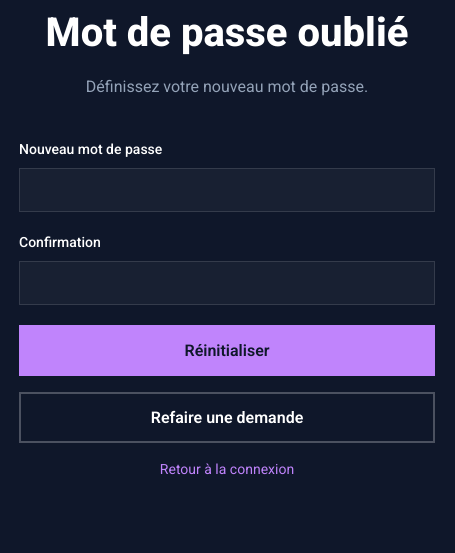
ResetPassword › refuse la confirmation si les mots de passe diffèrent
Type "motdepasse1" into the password field labelled "Nouveau mot de passe". click: (227, 190)
box: [19,168,435,212]
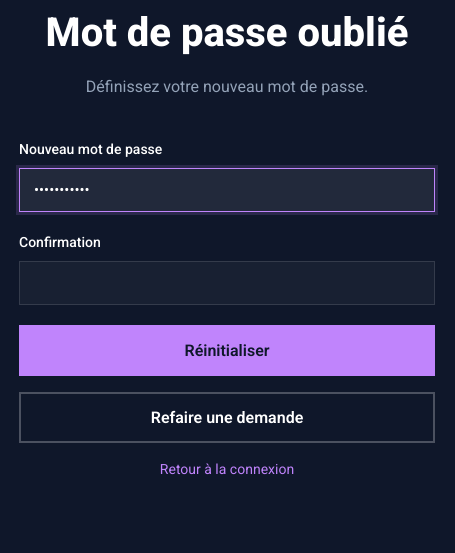
Type "motdepasse2" into the password field labelled "Confirmation". click: (227, 283)
box: [19,261,435,305]
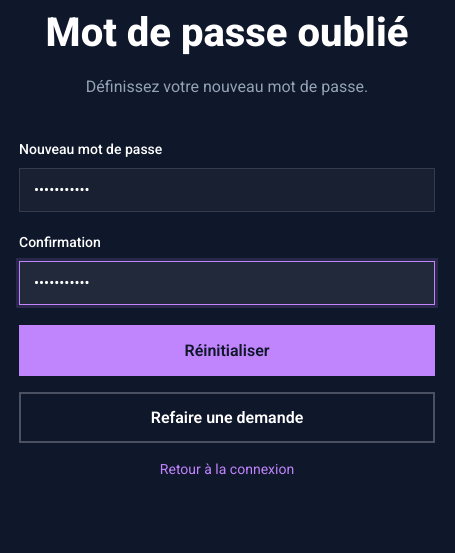
Click the button "Réinitialiser". click: (227, 350)
box: [19,325,435,376]
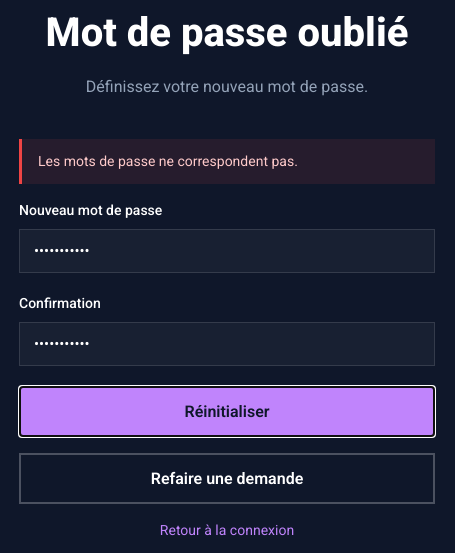
Now the text "Les mots de passe ne correspondent pas." is shown, box [19,139,435,184]
